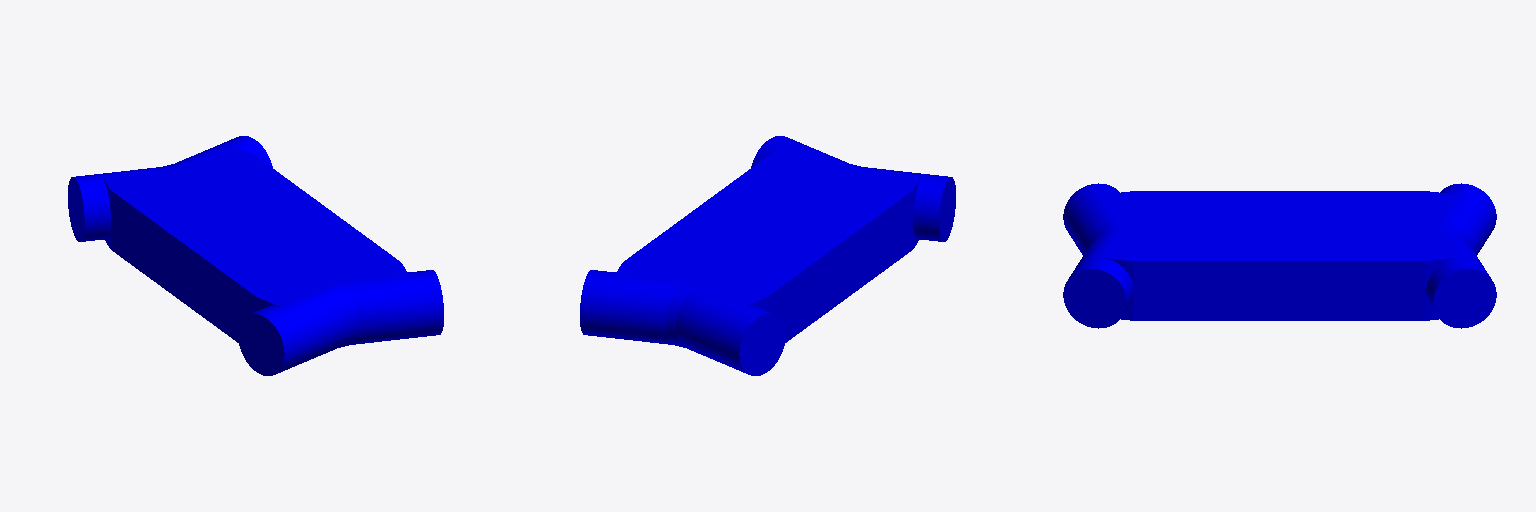
File: soft_body_v2_simplified_filled.obj
The picture shows the model from 3 angles: view 1: azimuth 30°, elevation 25°; view 2: azimuth 150°, elevation 25°; view 3: azimuth 270°, elevation 25°; orthographic projection.
Parts seen in each view (by area): view 1: Solid1; view 2: Solid1; view 3: Solid1.
Part boxes in pixels (x1,y1,x2,y2): Solid1: (68, 136, 443, 375); Solid1: (580, 136, 955, 375); Solid1: (1063, 183, 1496, 328).
Size of the model in its own units: 197 by 59.2 by 391.